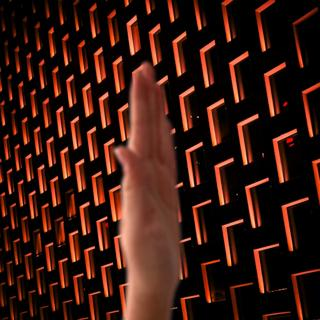Right: (105, 53, 206, 303)
